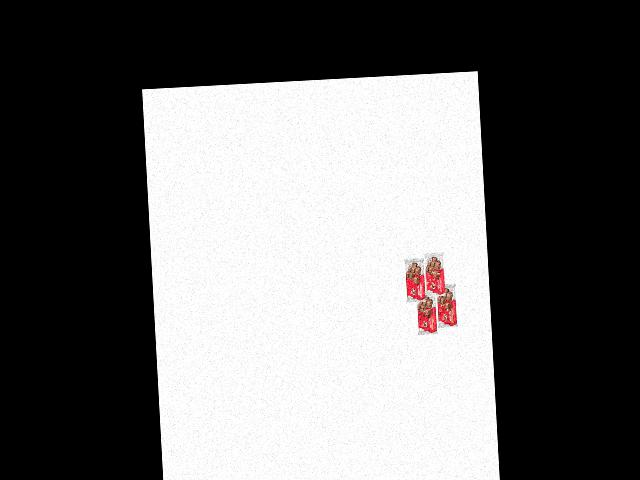chocolate: (432, 280, 460, 331)
